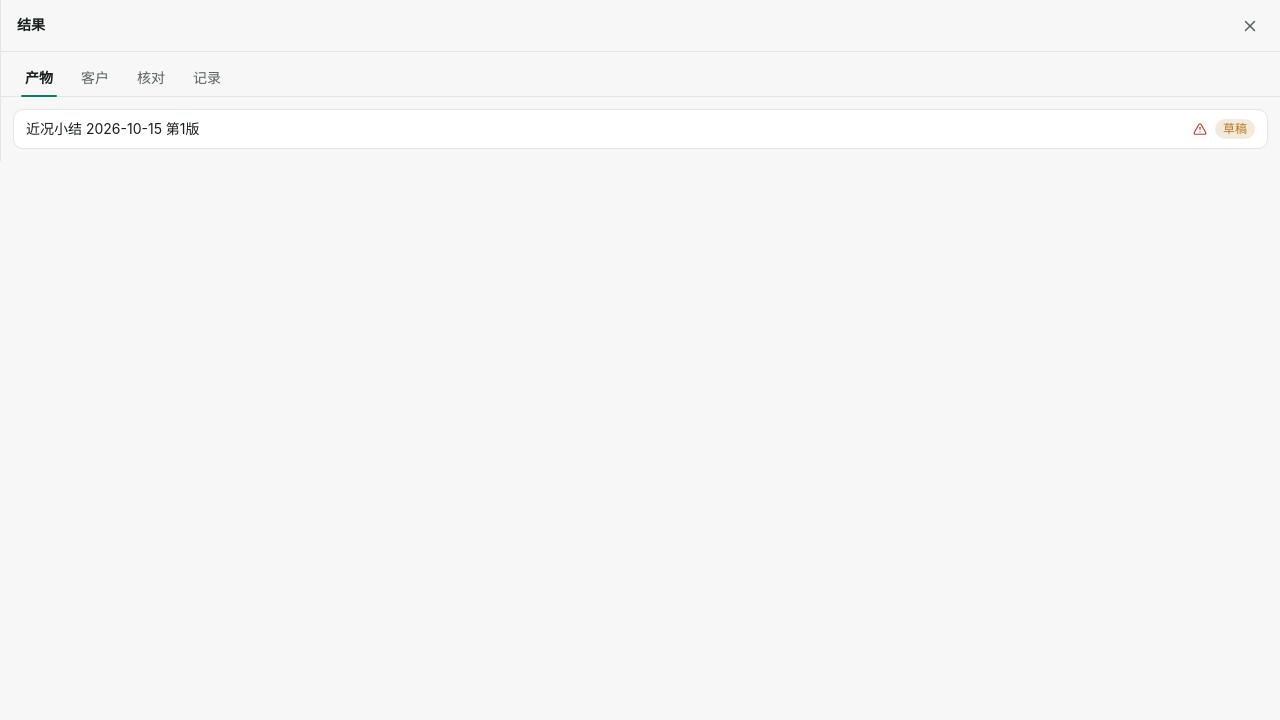
Test: review bar on a draft › keeps approve disabled until the critical values are acknowledged
The image size is (1280, 720).
Click the button "近况小结 2026-10-15 第1版 草稿" at (113, 128), box [13, 109, 1268, 149]
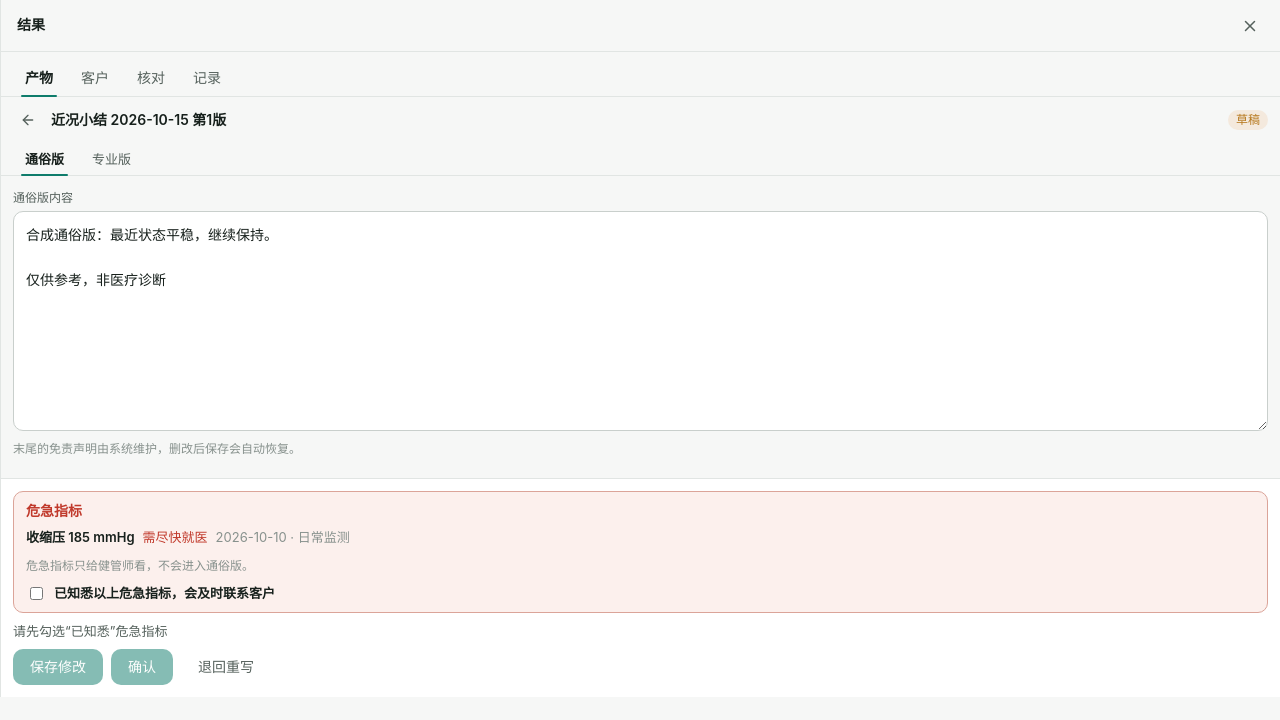
Now the element "危急指标" shows "收缩压 185 mmHg", box [26, 529, 135, 545]
Now the element "危急指标" shows "需尽快就医", box [143, 529, 208, 545]
Now the button "确认" is disabled, box [111, 649, 173, 685]
Click the checkbox labelled "已知悉以上危急指标，会及时联系客户" at (36, 593), box [30, 587, 43, 600]
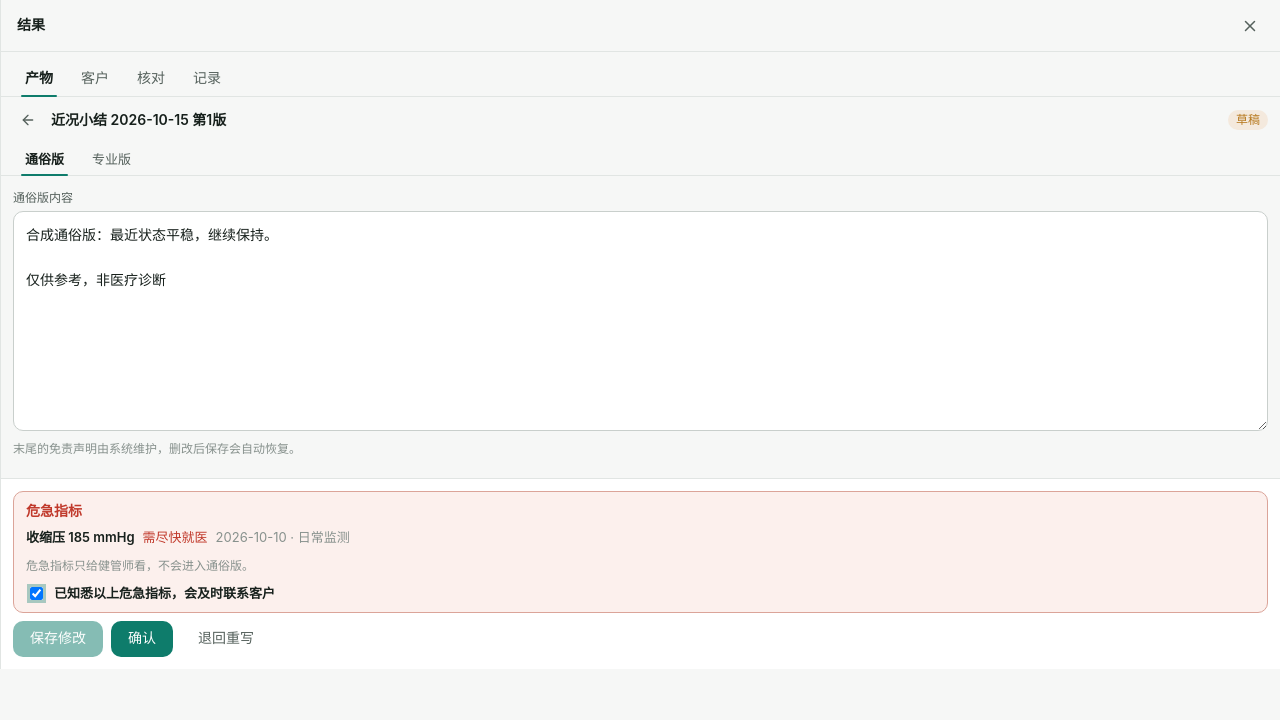
Now the button "确认" is enabled
Click the button "确认" at (142, 638), box [111, 620, 173, 656]
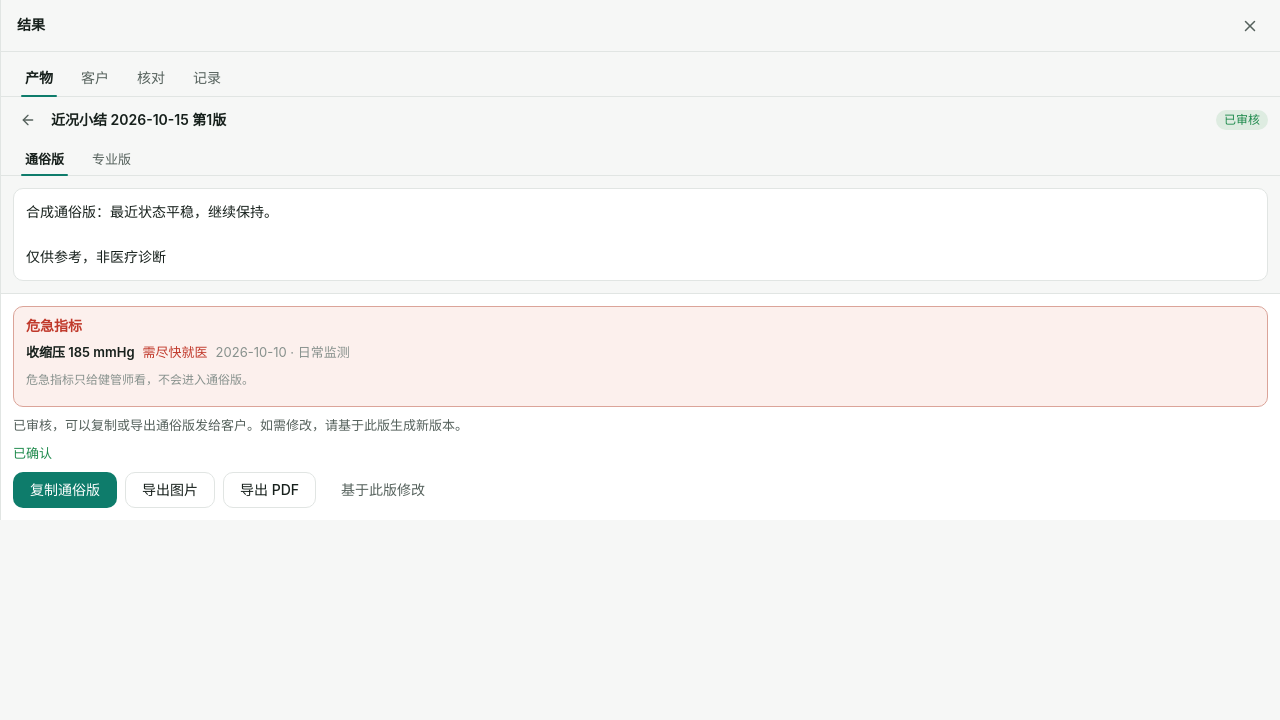
Now the button "复制通俗版" is shown, box [13, 472, 117, 508]
